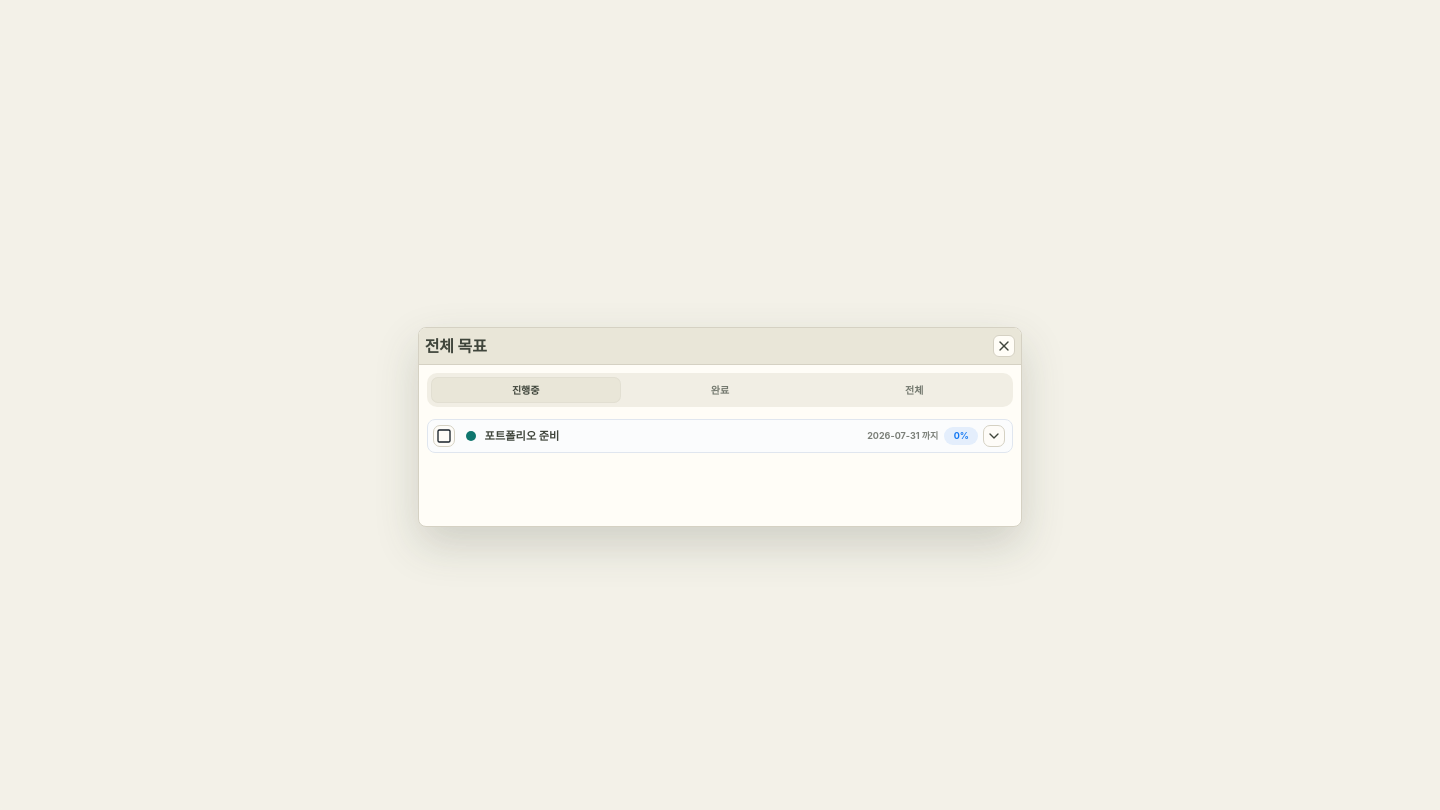
it: GoalListModal › 초기 목표 목록이 비어 있어도 API에서 목표와 마일스톤을 불러와 표시한다
expect the text "포트폴리오 준비" is shown: met, box [485, 428, 559, 444]
Click the button "포트폴리오 준비 2026-07-31 까지 0%". click: [522, 436]
box: [485, 427, 978, 445]
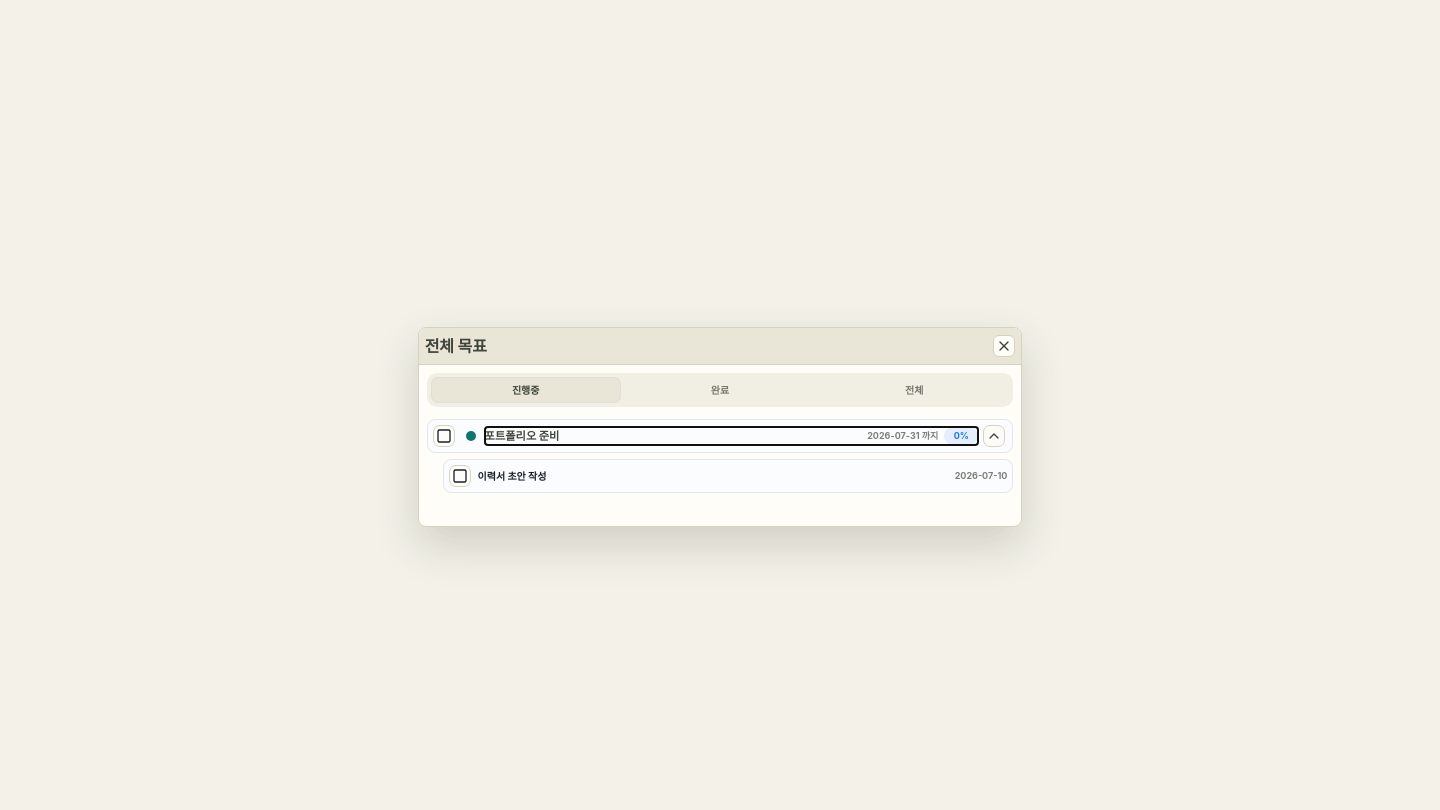
expect the text "이력서 초안 작성" is shown: met, box [478, 469, 546, 484]
